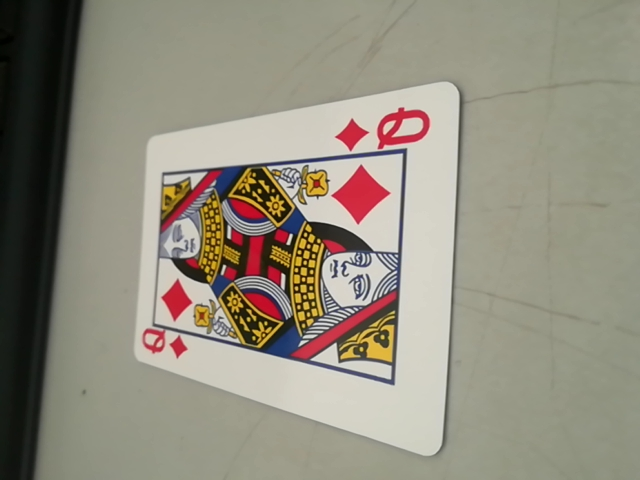fk q: (338, 102, 437, 156), (136, 323, 195, 363)
